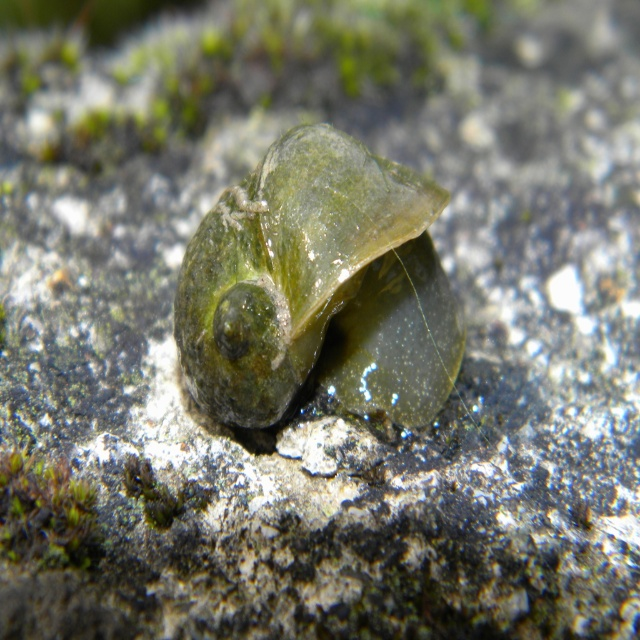Snail: (174, 114, 470, 438)
